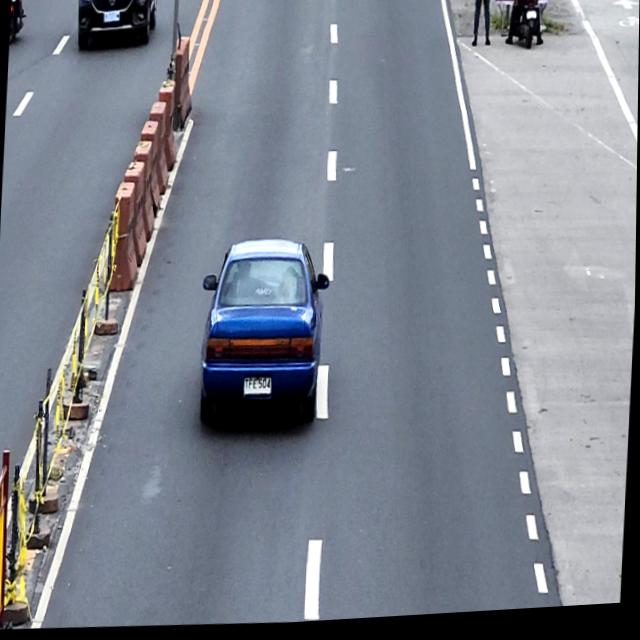Car: (196, 235, 332, 432), (74, 0, 157, 54)
License-Plate: (243, 375, 273, 401), (103, 10, 120, 24), (525, 16, 537, 27)
Motorcycle: (505, 0, 552, 56), (9, 0, 26, 42)
